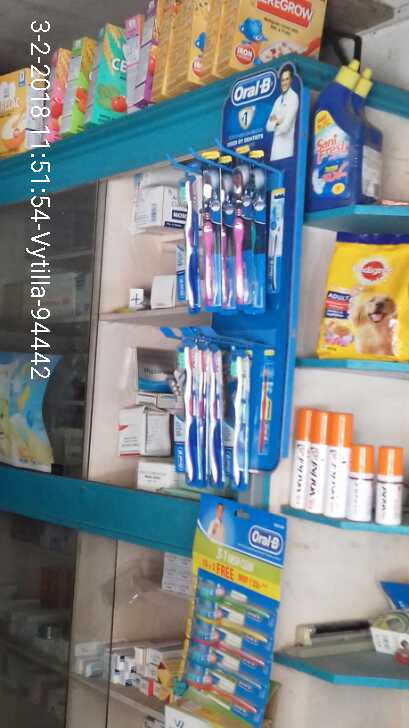oralb: (195, 148, 221, 308)
